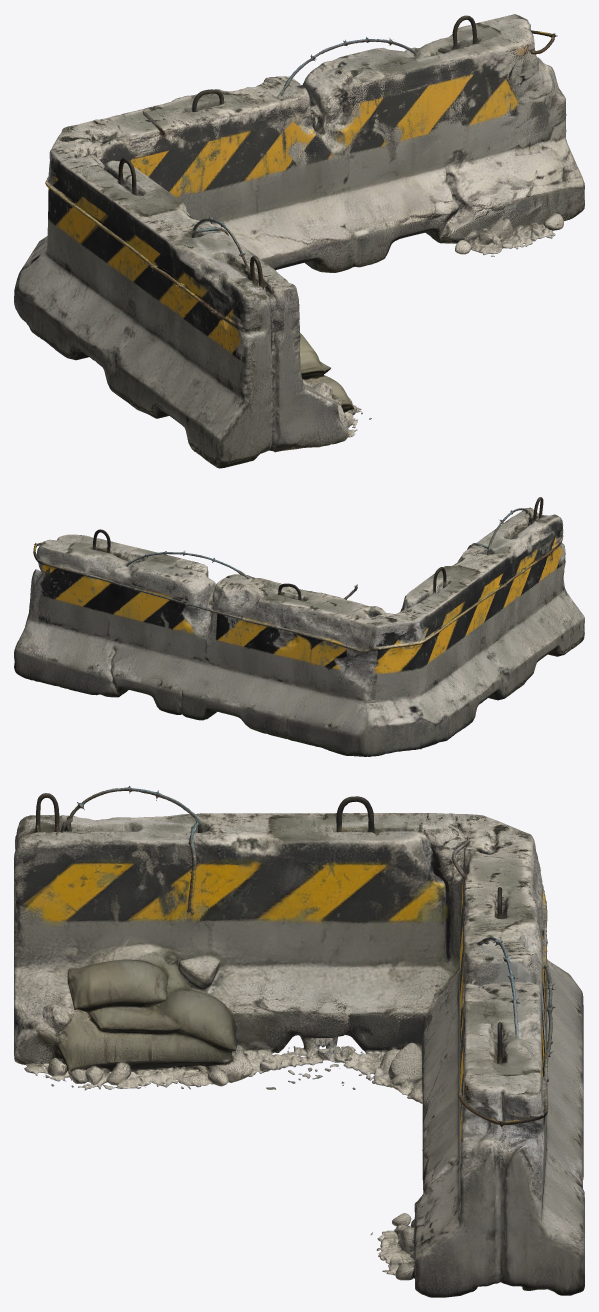
File: road_barrier.glb
The picture shows the model from 3 angles, top to bottom: view 1: azimuth 30°, elevation 25°; view 2: azimuth 150°, elevation 25°; view 3: azimuth 270°, elevation 25°; orthographic projection. The views are drawn at different scales.
Visible parts, largest first — view 1: road_barrier; view 2: road_barrier; view 3: road_barrier.
Boxes of the visible parts, left/top/right/bottom form: road_barrier: left=14, top=14, right=584, bottom=468; road_barrier: left=14, top=497, right=584, bottom=756; road_barrier: left=14, top=786, right=584, bottom=1297.
Size of the model in its own units: 1.9 by 0.6881 by 1.47.
1 material, 1 textured.
